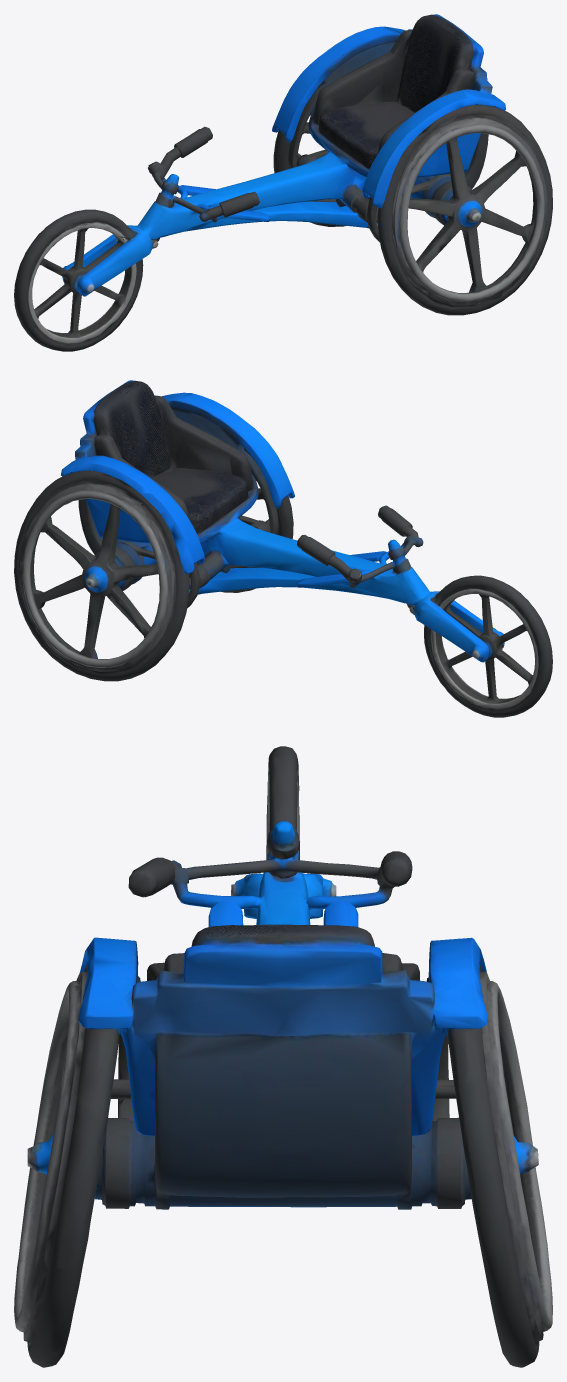
The model's file is racer.glb.
The picture shows the model from 3 angles, top to bottom: view 1: azimuth 30°, elevation 25°; view 2: azimuth 150°, elevation 25°; view 3: azimuth 270°, elevation 25°; orthographic projection. The views are drawn at different scales.
Visible parts, largest first — view 1: tripo_node_855fdcb8-328e-40a5-8237-309c12463f6c; view 2: tripo_node_855fdcb8-328e-40a5-8237-309c12463f6c; view 3: tripo_node_855fdcb8-328e-40a5-8237-309c12463f6c.
Part boxes in pixels (box(x1,y1,x2,y2)): tripo_node_855fdcb8-328e-40a5-8237-309c12463f6c: box(14, 14, 552, 351); tripo_node_855fdcb8-328e-40a5-8237-309c12463f6c: box(14, 380, 552, 717); tripo_node_855fdcb8-328e-40a5-8237-309c12463f6c: box(14, 746, 552, 1367).
Size of the model in its own units: 1 by 0.4623 by 0.4914.
1 material, 1 textured.
